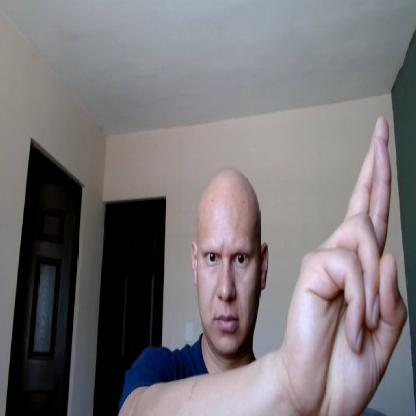R: (284, 112, 410, 415)
